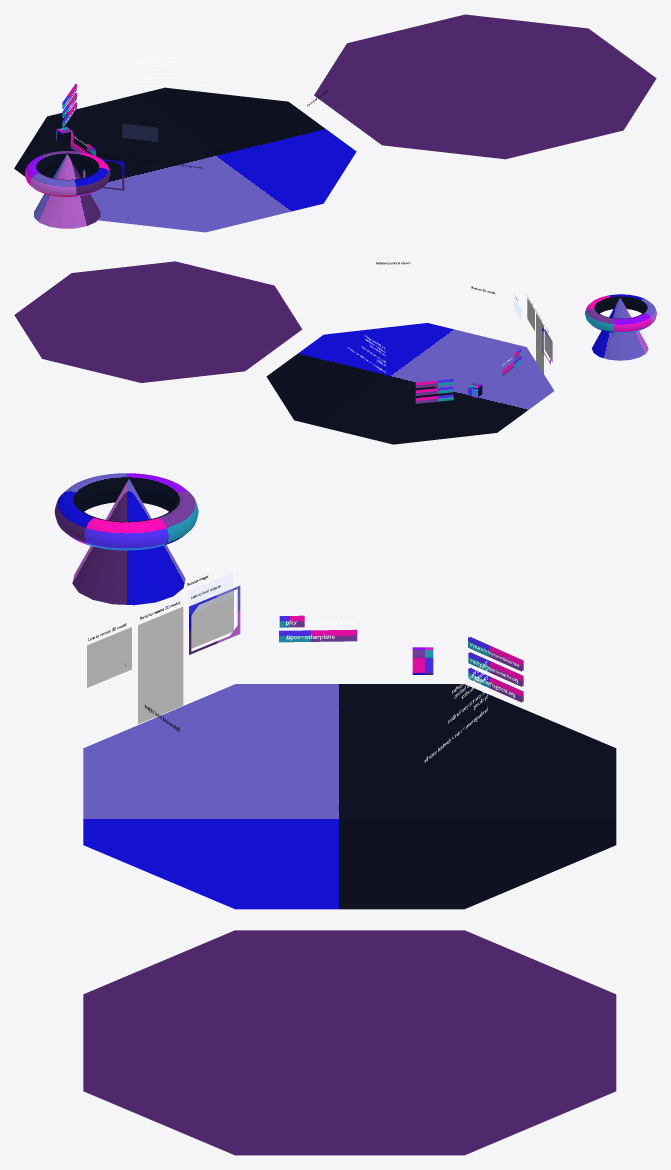
File: example.glb
3 views of the same model, one above another, from view 1: azimuth 30°, elevation 25°; view 2: azimuth 150°, elevation 25°; view 3: azimuth 270°, elevation 25° (orthographic). The views are drawn at different scales.
Visible parts, largest first — view 1: otherplane, floor1, Torus, cone, Text.005, remote_image; view 2: otherplane, floor1, Torus, cone, portal_to_remote_3D_model; view 3: otherplane, floor1, Torus, cone, portal_to_remote_3D_model, lens_to_remote_3D_model, lens_to_local_objects, remote_image, button.005.
Boxes of the visible parts, x1,y1,x2,y2 form: otherplane: (314,14,656,159); floor1: (14,87,356,232); Torus: (25,151,110,196); cone: (34,154,100,228); Text.005: (133,56,215,87); remote_image: (123,124,157,141); otherplane: (14,261,302,382); floor1: (266,323,554,444); Torus: (585,294,656,332); cone: (591,297,648,360); portal_to_remote_3D_model: (536,313,543,374); otherplane: (83,930,616,1155); floor1: (83,684,616,909); Torus: (54,473,198,550); cone: (72,479,185,605); portal_to_remote_3D_model: (138,607,183,723); lens_to_remote_3D_model: (87,627,131,687); lens_to_local_objects: (191,590,233,648); remote_image: (188,573,232,613); button.005: (279,629,357,642).
Size of what is drawn, in the model's own units: 32.93 by 4.76 by 14.46.
Materials: 6 (3 with a texture image).
